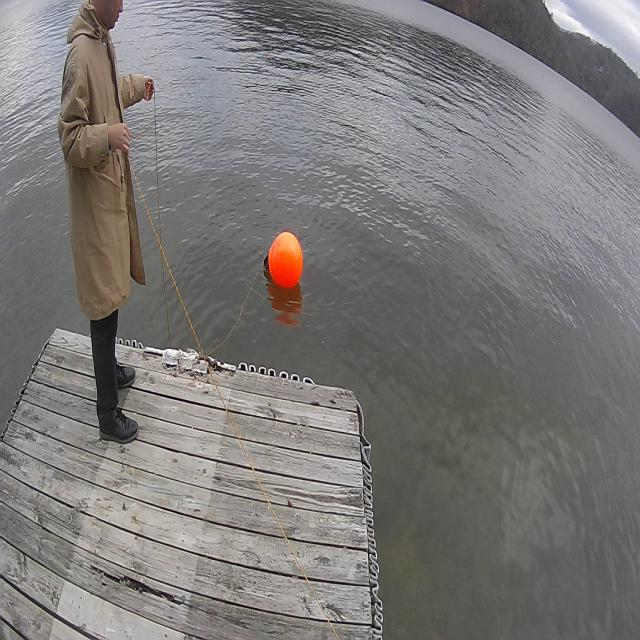Buoy: (256, 217, 312, 301)
